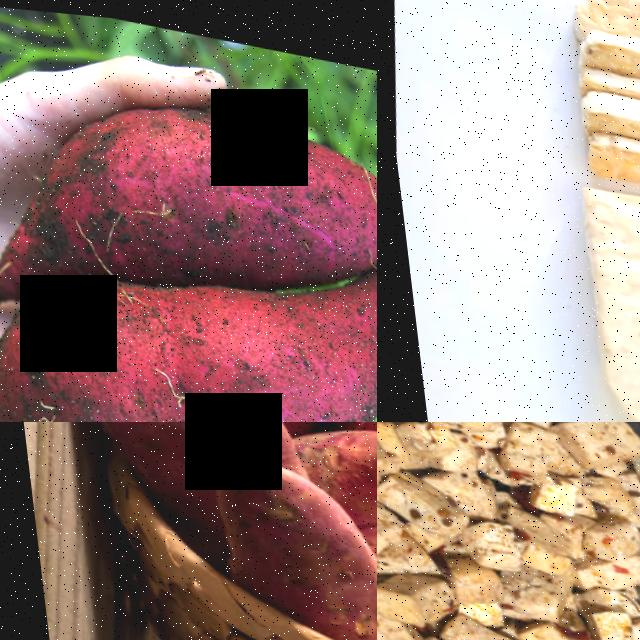sweet potato: (35, 75, 377, 292), (0, 220, 340, 422), (190, 448, 377, 613), (305, 422, 377, 525)
tempeh: (544, 170, 640, 422), (573, 125, 640, 207), (568, 27, 640, 99), (572, 84, 640, 159), (566, 0, 640, 62)
